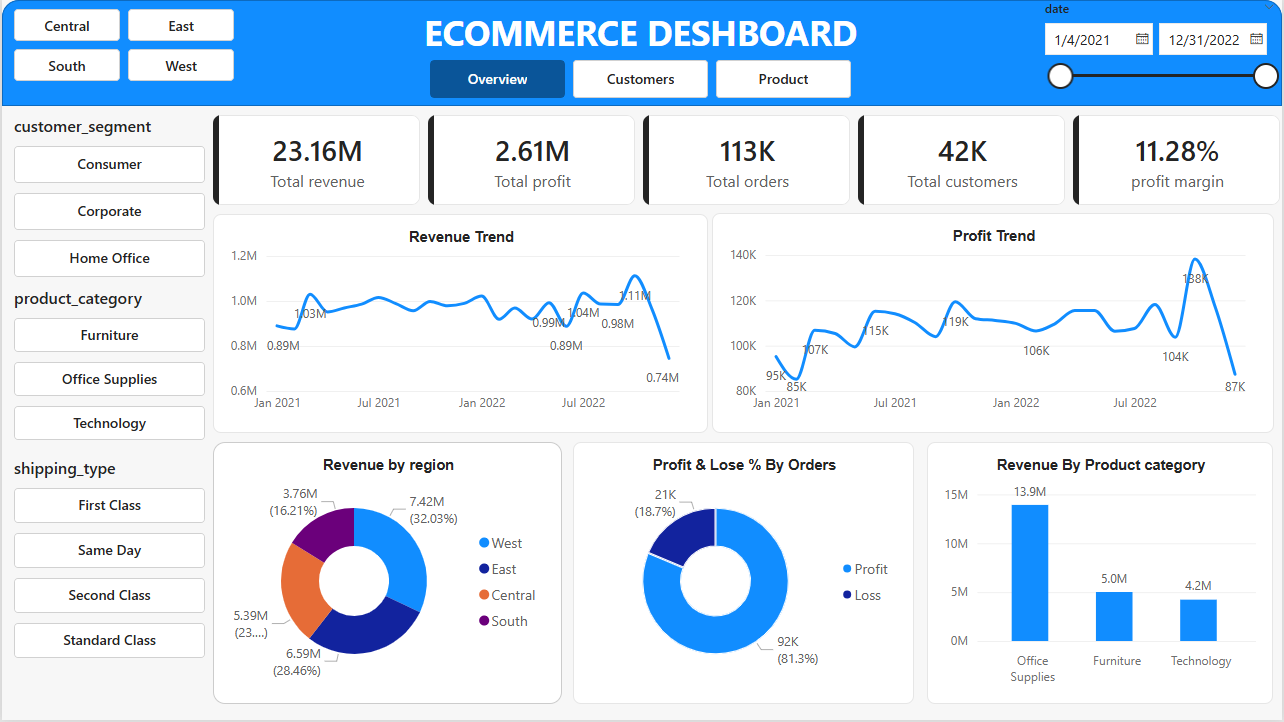

The dashboard page shown, as its layout file describes it:
{"tool":"powerbi","page":{"name":"Overview","canvas":[1280,720],"ordinal":0},"visuals":[{"type":"shape","box":[0,0,1280,105.6],"z":500},{"type":"cardVisual","fields":{"Data":["ecommerce_data.Total revenue","ecommerce_data.Total profit","ecommerce_data.Total orders","ecommerce_data.Total customers","ecommerce_data.profit margin"]},"box":[211,114.9,1069,90.3],"z":1000},{"type":"advancedSlicerVisual","fields":{"Values":["ecommerce_data.customer_region"]},"box":[11.7,9.4,220.4,72.7],"z":2000},{"type":"advancedSlicerVisual","fields":{"Values":["ecommerce_data.customer_segment"]},"box":[12,115,191,164],"z":4000},{"type":"advancedSlicerVisual","fields":{"Values":["ecommerce_data.product_category"]},"box":[11.5,287.3,191.5,154.3],"z":5000},{"type":"advancedSlicerVisual","fields":{"Values":["ecommerce_data.shipping_type"]},"box":[11.7,457.1,191.1,201.6],"z":6000},{"type":"lineChart","title":"Profit Trend","fields":{"Category":["calander.date.Variation.Date Hierarchy.Year","calander.date.Variation.Date Hierarchy.Quarter","calander.date.Variation.Date Hierarchy.Month","calander.date.Variation.Date Hierarchy.Day"],"Y":["ecommerce_data.Total profit"]},"box":[710.3,213.3,561.5,219.2],"z":7000},{"type":"donutChart","title":"Revenue by region","fields":{"Category":["ecommerce_data.customer_region"],"Y":["ecommerce_data.Total revenue"]},"box":[211,441.9,349.3,262.6],"z":8000},{"type":"donutChart","title":"Profit & Lose % By Orders","fields":{"Category":["ecommerce_data.profitiblity status"],"Y":["ecommerce_data.Total orders"]},"box":[570.8,441.9,341.1,262.6],"z":9000},{"type":"columnChart","title":"Revenue By Product category ","fields":{"Category":["ecommerce_data.product_category"],"Y":["ecommerce_data.Total revenue"]},"box":[924.8,441.9,345.8,262.6],"z":10000},{"type":"lineChart","title":"Revenue Trend","fields":{"Category":["calander.date.Variation.Date Hierarchy.Year","calander.date.Variation.Date Hierarchy.Quarter","calander.date.Variation.Date Hierarchy.Month","calander.date.Variation.Date Hierarchy.Day"],"Y":["ecommerce_data.Total revenue"]},"box":[211.2,213.5,494.7,219.5],"z":11000},{"type":"textbox","title":"ECOMMERCE DESHBOARD","box":[422.2,8.9,441.1,70],"z":12000},{"type":"pageNavigator","box":[427.8,60,423.3,37.8],"z":13000},{"type":"slicer","fields":{"Values":["calander.date"]},"box":[1035,0,245,97.3],"z":13001}]}

Visuals, with their boxes in screenshot pixels (x1, y1, x2, y2), scaled from the page's 1280x720 canvas onto the 1284x722 screenshot:
shape: [left=0, top=0, right=1283, bottom=106]
cardVisual - ecommerce_data.Total revenue x ecommerce_data.Total profit: [left=212, top=115, right=1283, bottom=206]
advancedSlicerVisual - ecommerce_data.customer_region: [left=12, top=9, right=233, bottom=82]
advancedSlicerVisual - ecommerce_data.customer_segment: [left=12, top=115, right=204, bottom=280]
advancedSlicerVisual - ecommerce_data.product_category: [left=12, top=288, right=204, bottom=443]
advancedSlicerVisual - ecommerce_data.shipping_type: [left=12, top=458, right=203, bottom=661]
"Profit Trend" lineChart: [left=713, top=214, right=1276, bottom=434]
"Revenue by region" donutChart: [left=212, top=443, right=562, bottom=706]
"Profit & Lose % By Orders" donutChart: [left=573, top=443, right=915, bottom=706]
"Revenue By Product category " columnChart: [left=928, top=443, right=1275, bottom=706]
"Revenue Trend" lineChart: [left=212, top=214, right=708, bottom=434]
"ECOMMERCE DESHBOARD" textbox: [left=424, top=9, right=866, bottom=79]
pageNavigator: [left=429, top=60, right=854, bottom=98]
slicer - calander.date: [left=1038, top=0, right=1283, bottom=98]
